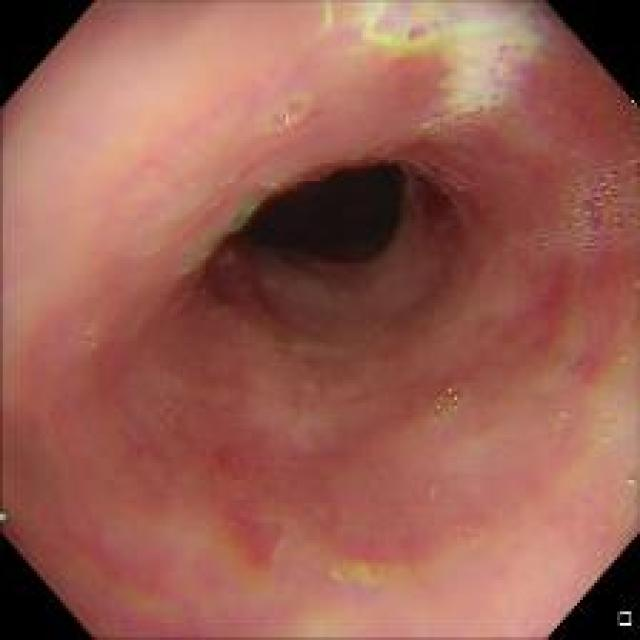bubbles: (505, 156, 634, 261), (269, 89, 310, 142), (421, 376, 468, 420), (451, 521, 480, 548), (596, 408, 618, 442), (161, 398, 182, 429), (550, 401, 571, 422), (389, 562, 410, 582), (80, 328, 99, 350), (620, 469, 639, 491), (588, 312, 601, 326), (318, 411, 330, 424)
color misalignment: (166, 185, 270, 282), (621, 98, 636, 114), (0, 508, 6, 524)
contrast: (205, 149, 412, 265)
